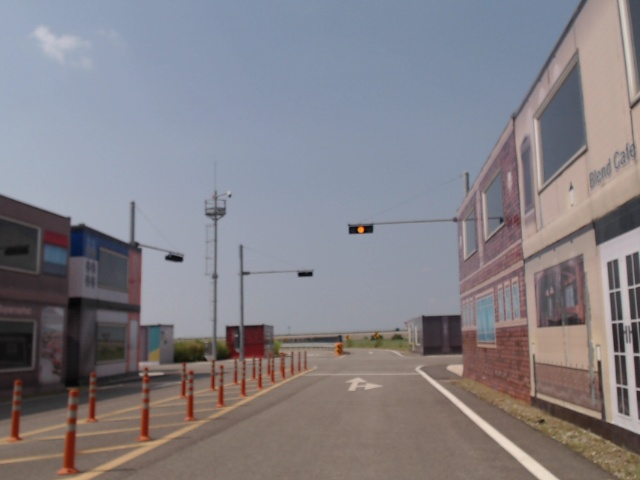orange_3: (349, 224, 374, 235)
